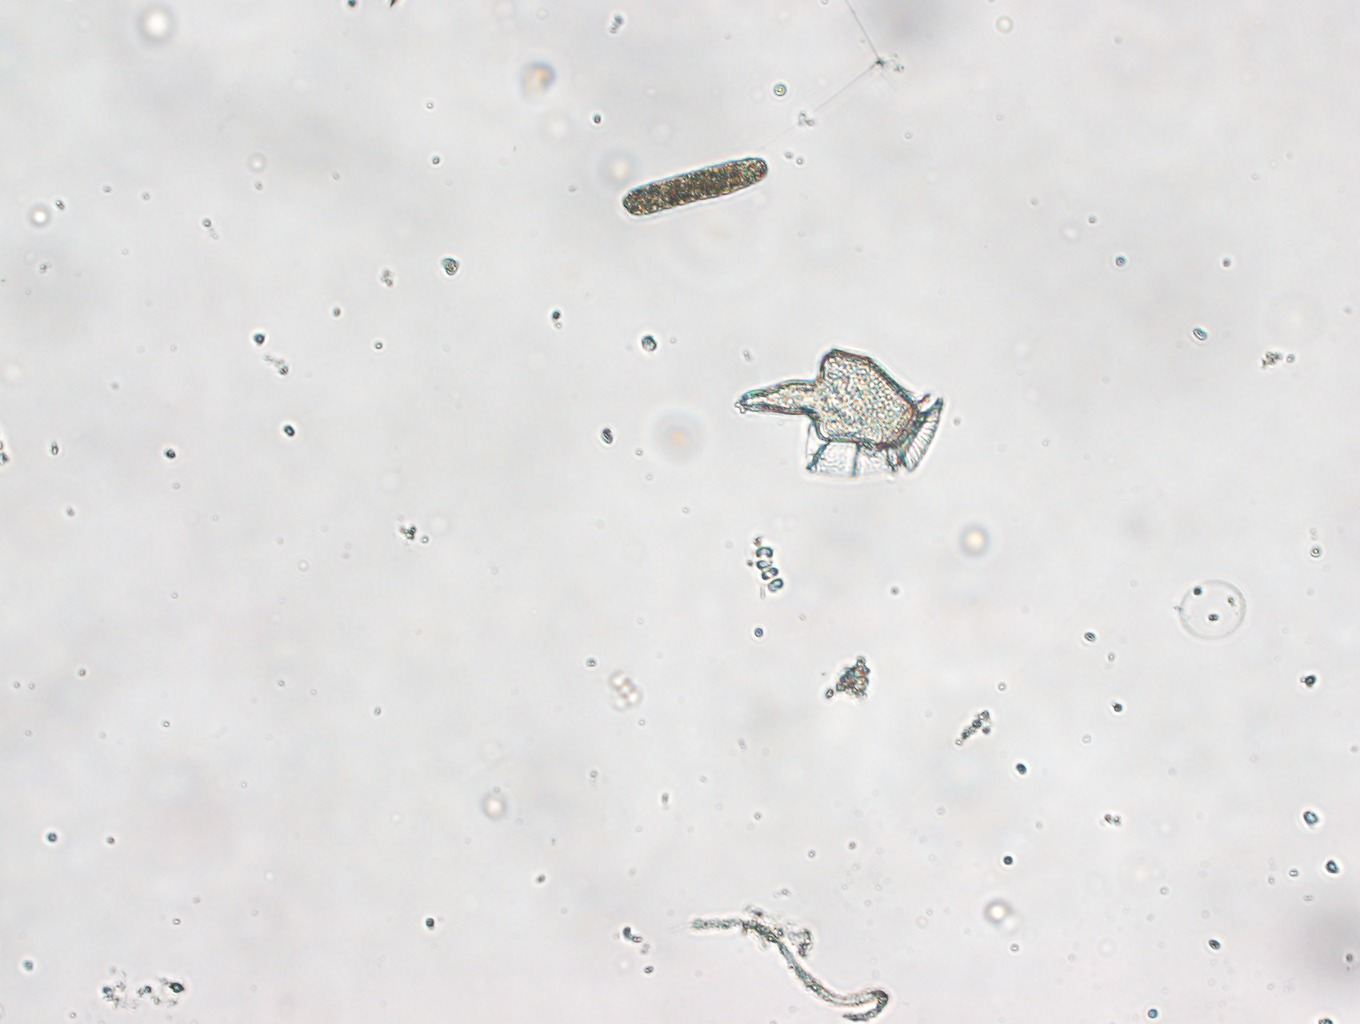dinophysis caudata: (733, 347, 943, 480)
